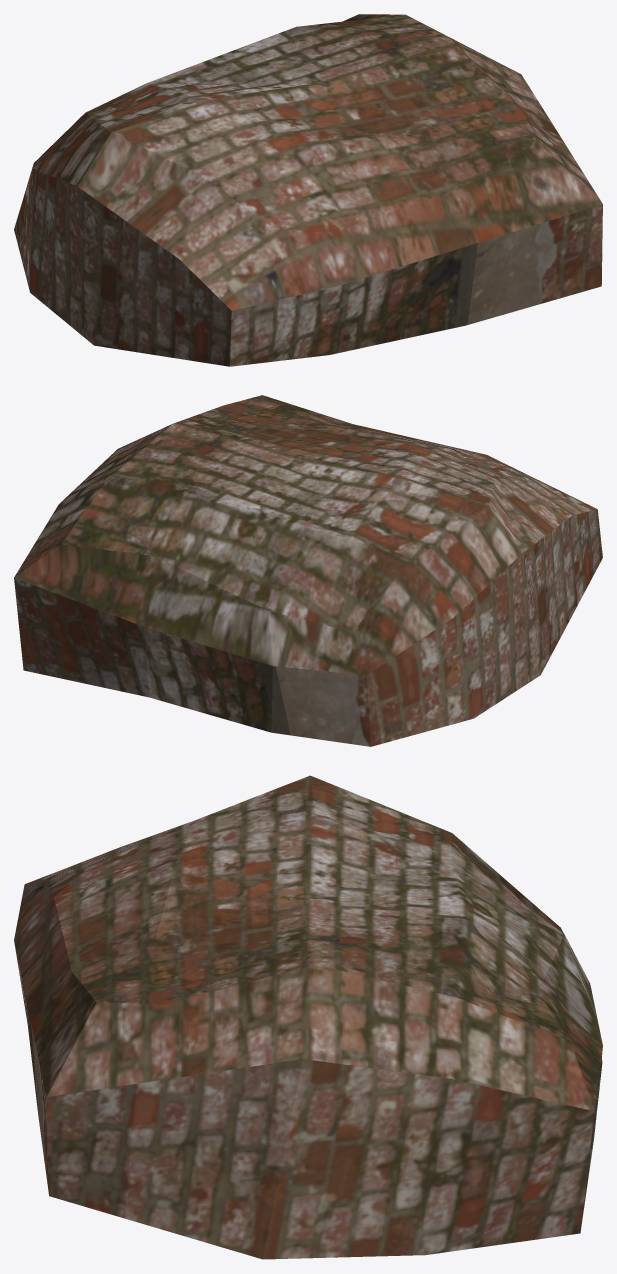
File: rubble_Brick_GEO.fbx
3 renders of one model, top to bottom at view 1: azimuth 30°, elevation 25°; view 2: azimuth 150°, elevation 25°; view 3: azimuth 270°, elevation 25°, orthographic. The views are drawn at different scales.
Parts seen in each view (by area): view 1: rubble_Brick_GEO; view 2: rubble_Brick_GEO; view 3: rubble_Brick_GEO.
Boxes of the visible parts, bbox=[...] form: rubble_Brick_GEO: bbox=[14, 14, 602, 366]; rubble_Brick_GEO: bbox=[14, 395, 602, 746]; rubble_Brick_GEO: bbox=[14, 775, 602, 1259].
Bounding box in the file's own units: 4.14 × 1.65 × 3.68.
